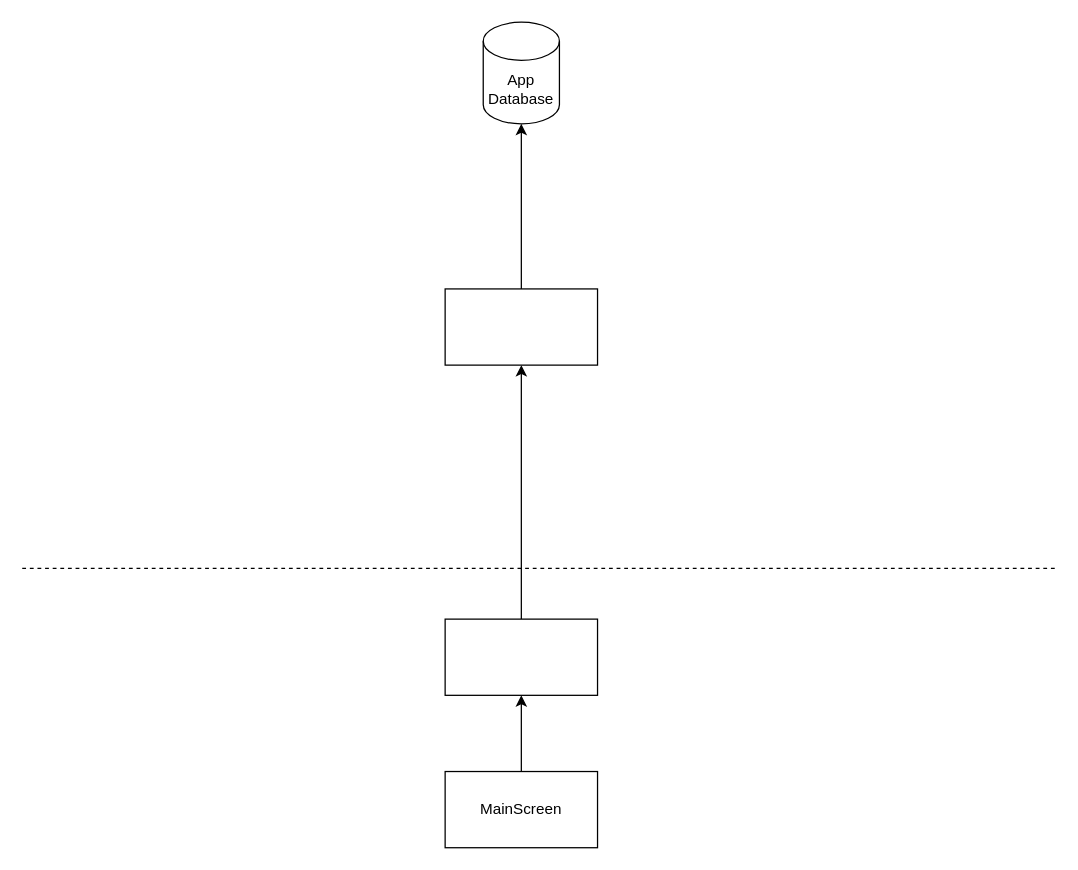
The diagram is 1078 pixels wide and 870 high, and some of its shapes have lost their labels. The centre of each missing label's shape, as x and y in pixels:
"Budget Repository" belongs at (521,326).
"MainViewModel" belongs at (521,656).
